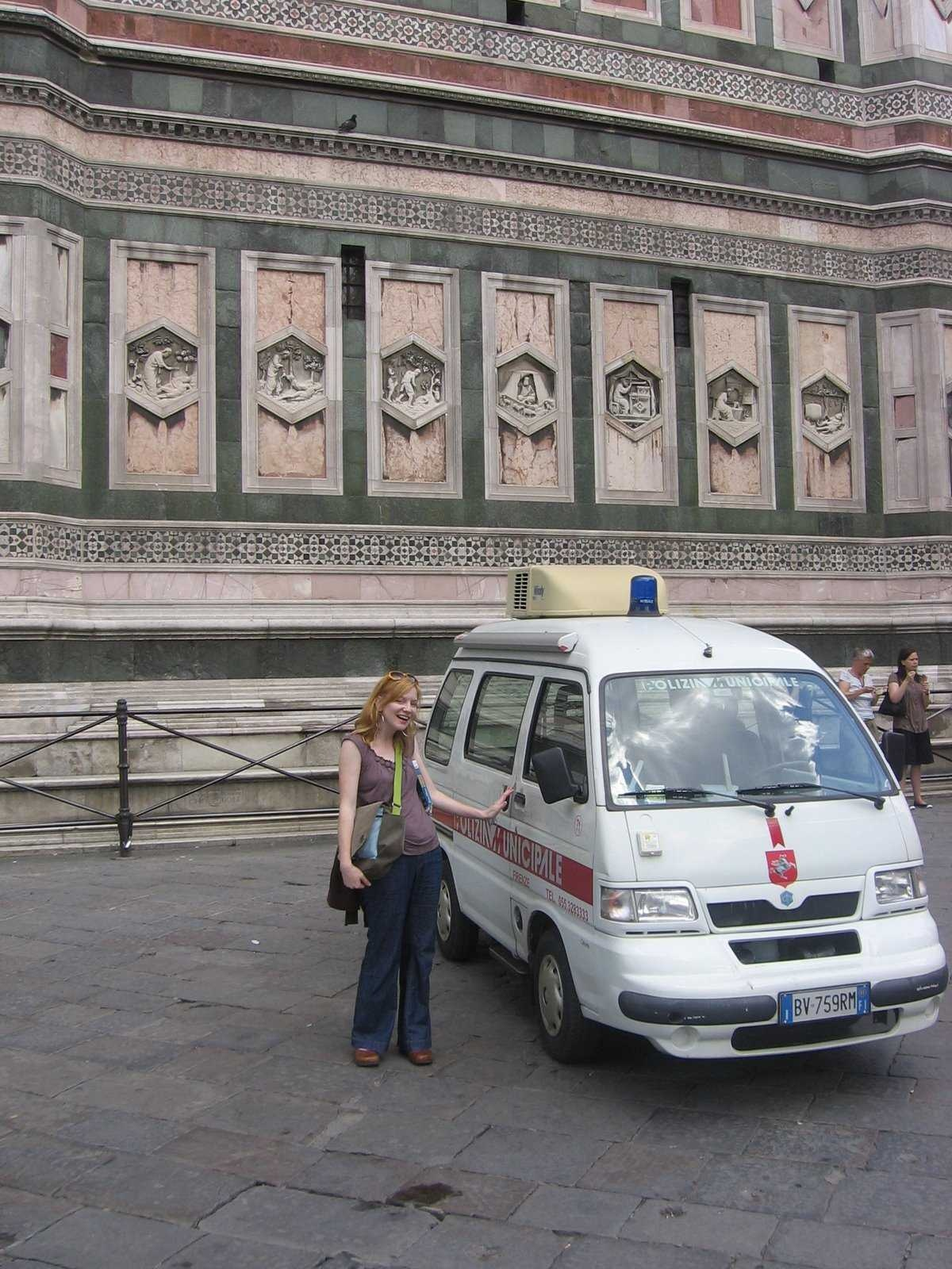Ambulance: (391, 573, 950, 1073)
